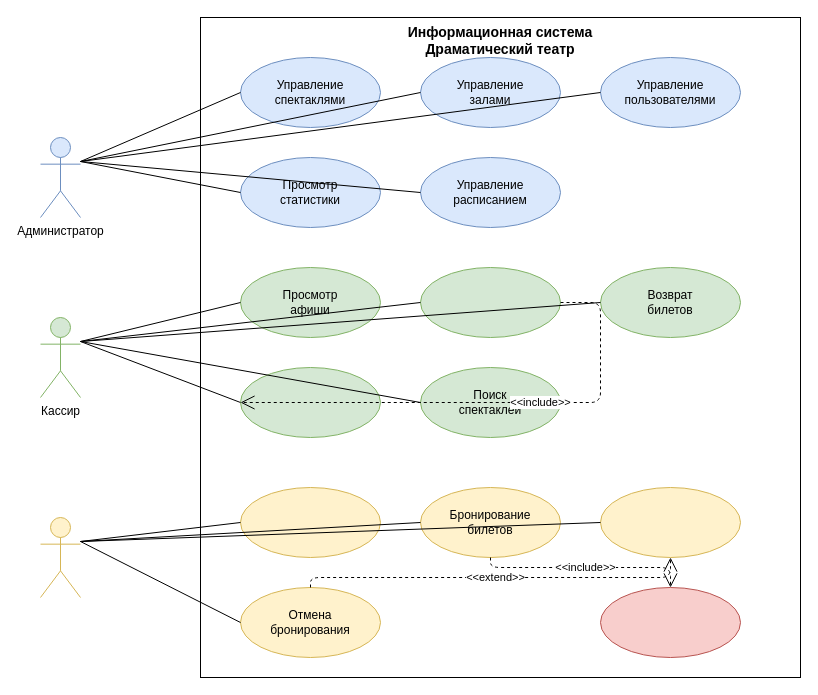
Some shapes in this 818 by 695 pixel diagram are drawn without their labels. Each missing label, with the centre of its shape:
"Авторизация" goes at pixel 670 622.
"Посетитель" goes at pixel 60 557.
"Продажа билетов" goes at pixel 490 302.
"Просмотр бронирований" goes at pixel 670 522.
"Просмотр репертуара" goes at pixel 310 522.
"Просмотр свободных мест" goes at pixel 310 402.
